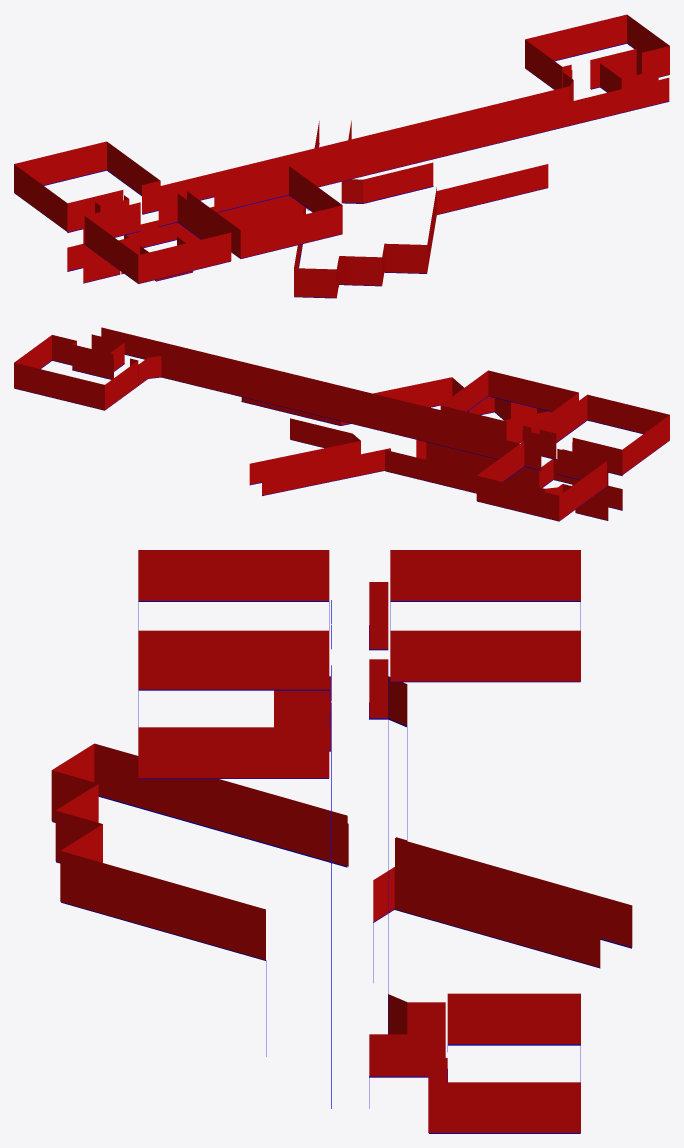
File: Escape_Room.fbx
3 views of the same model, one above another, from view 1: azimuth 30°, elevation 25°; view 2: azimuth 150°, elevation 25°; view 3: azimuth 270°, elevation 25° (orthographic). The views are drawn at different scales.
Visible parts, largest first — view 1: Plane.013, Plane.010, Plane.006, Plane.030, Plane.066, Plane.026, Plane.051, Plane.044, Plane.032, Plane.004, Plane.041, Plane.025 (+23 smaller); view 2: Plane.010, Plane.013, Plane.008, Plane.051, Plane.066, Plane.030, Plane.044, Plane.026, Plane.084, Plane.082, Plane.085, Plane.004 (+26 smaller); view 3: Plane.083, Plane.085, Plane.084, Plane.029, Plane.043, Plane.025, Plane.031, Plane.041, Plane.008, Plane.068, Plane.067, Plane.021 (+21 smaller).
Boxes of the visible parts, bbox=[...] form: Plane.013: bbox=[214, 77, 669, 210]; Plane.010: bbox=[142, 86, 569, 214]; Plane.006: bbox=[437, 164, 548, 214]; Plane.030: bbox=[250, 207, 333, 256]; Plane.066: bbox=[534, 17, 617, 61]; Plane.026: bbox=[147, 235, 221, 281]; Plane.051: bbox=[127, 195, 302, 248]; Plane.044: bbox=[23, 143, 97, 185]; Plane.032: bbox=[215, 168, 279, 212]; Plane.004: bbox=[368, 162, 433, 202]; Plane.041: bbox=[19, 168, 62, 227]; Plane.025: bbox=[90, 220, 132, 279]; Plane.010: bbox=[161, 356, 541, 470]; Plane.013: bbox=[101, 327, 505, 439]; Plane.008: bbox=[262, 448, 390, 495]; Plane.051: bbox=[388, 450, 544, 493]; Plane.066: bbox=[22, 365, 96, 408]; Plane.030: bbox=[496, 372, 570, 411]; Plane.044: bbox=[485, 477, 550, 519]; Plane.026: bbox=[595, 397, 661, 434]; Plane.084: bbox=[249, 442, 352, 485]; Plane.082: bbox=[431, 443, 530, 485]; Plane.085: bbox=[340, 379, 443, 425]; Plane.004: bbox=[290, 418, 347, 448]; Plane.083: bbox=[110, 748, 347, 867]; Plane.085: bbox=[76, 855, 265, 960]; Plane.084: bbox=[410, 871, 600, 968]; Plane.029: bbox=[157, 638, 310, 690]; Plane.043: bbox=[409, 630, 561, 682]; Plane.025: bbox=[157, 550, 310, 601]; Plane.031: bbox=[157, 727, 310, 778]; Plane.041: bbox=[409, 550, 561, 601]; Plane.008: bbox=[395, 838, 632, 948]; Plane.068: bbox=[447, 1082, 561, 1133]; Plane.067: bbox=[466, 993, 561, 1045]; Plane.021: bbox=[388, 1034, 426, 1077].
Bounding box in the file's own units: 66.1 × 7 × 30.42.
